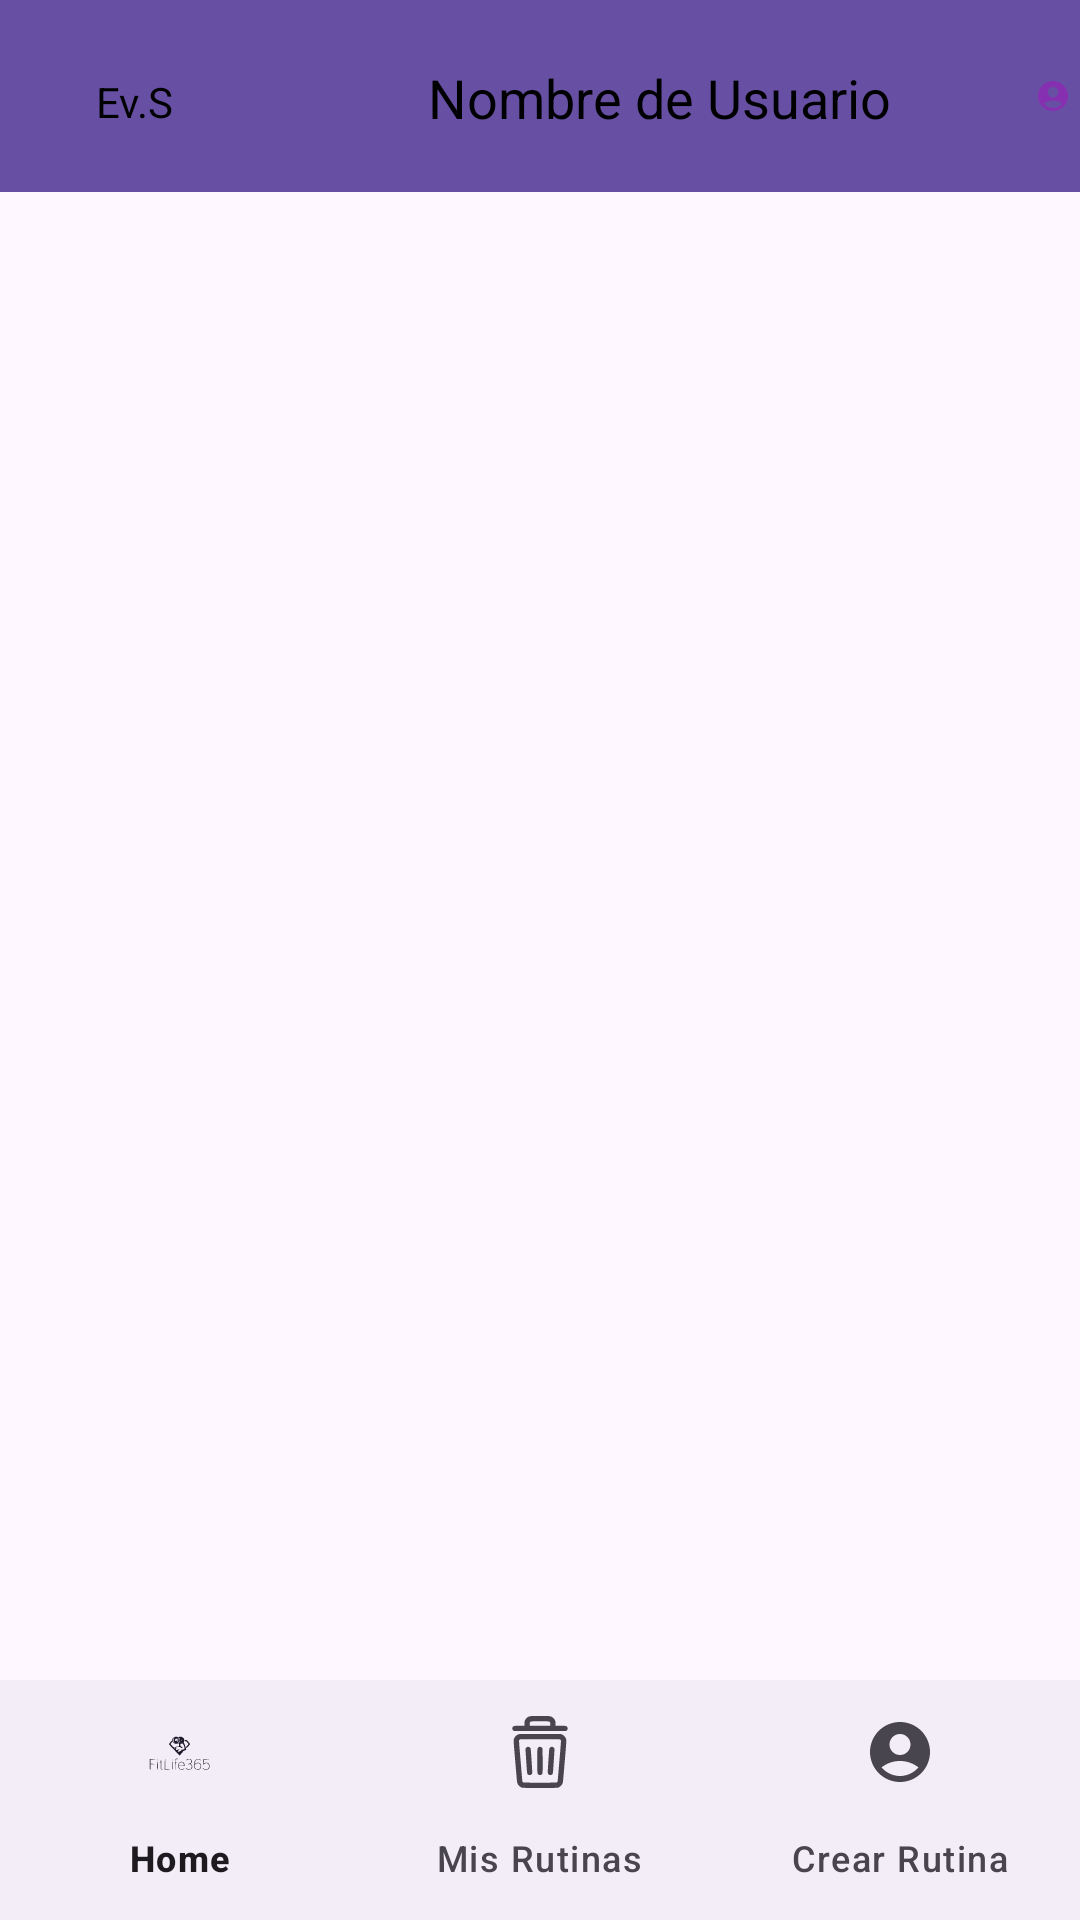

Where to tap for icons on this 1080x1920 app screen, as [x,y]:
perfil: [1053,96]
